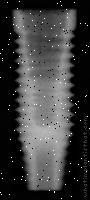Biomet 3i: (11, 9, 78, 192)
